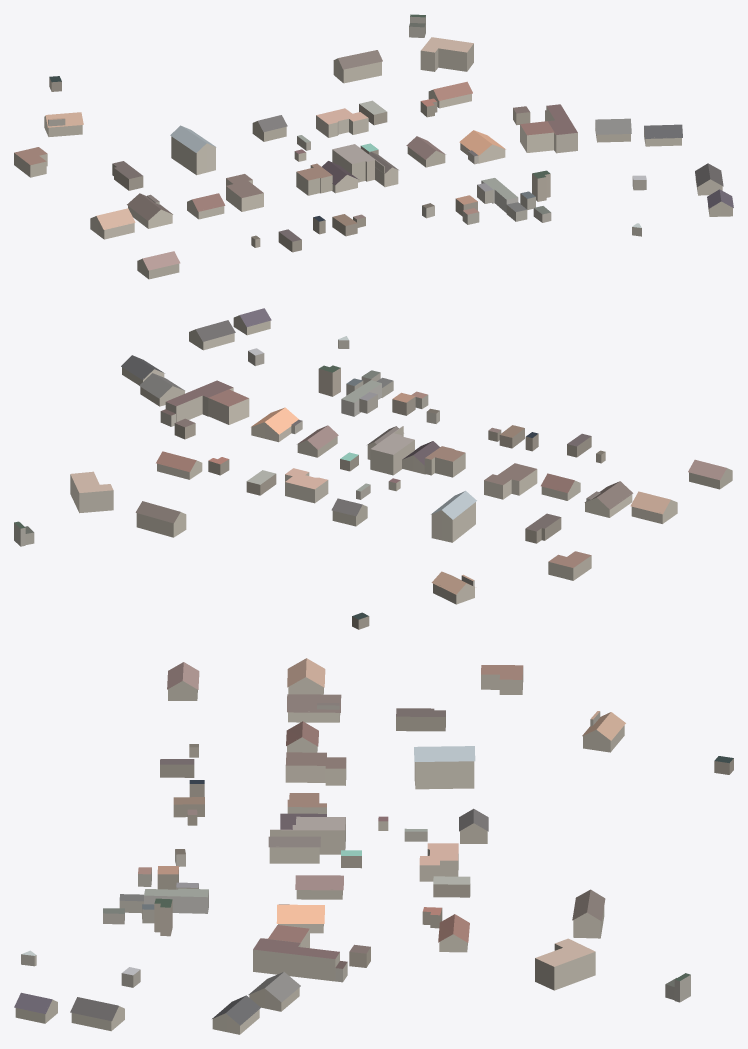
3 renders of one model, top to bottom at view 1: azimuth 30°, elevation 25°; view 2: azimuth 150°, elevation 25°; view 3: azimuth 270°, elevation 25°, orthographic. The views are drawn at different scales.
Visible parts, largest first — view 1: tuile; view 2: tuile; view 3: tuile.
Boxes of the visible parts, x1,y1,x2,y2 form: tuile: (14, 14, 733, 279); tuile: (14, 308, 732, 629); tuile: (14, 658, 733, 1034).
Size of the model in its own units: 251 by 20.68 by 227.
